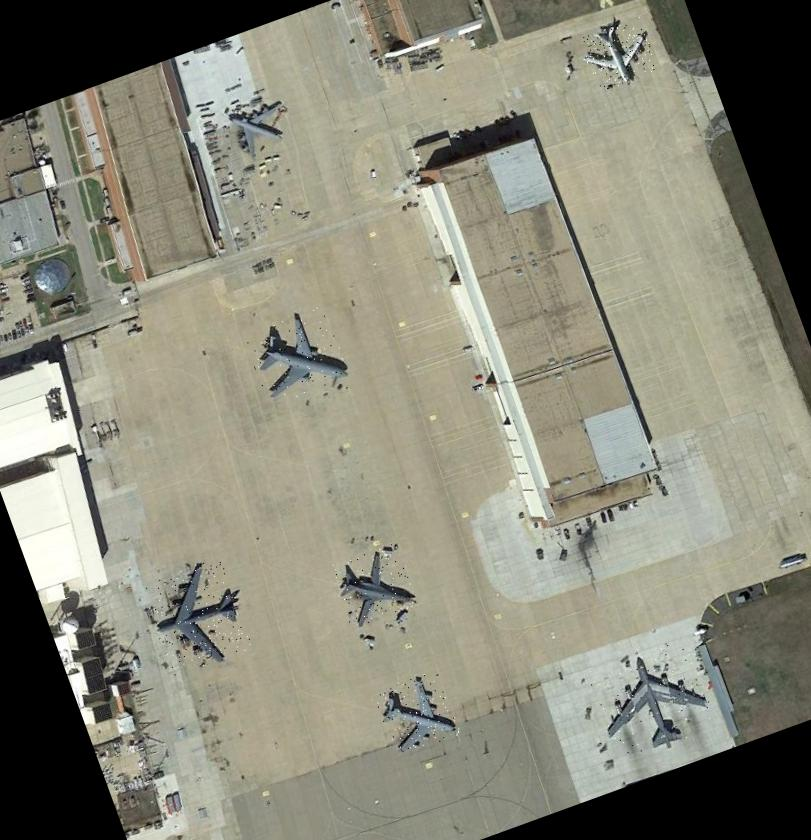A10: (328, 541, 420, 630)
A11: (578, 17, 659, 94)
A14: (371, 668, 461, 758)
A18: (240, 304, 352, 408)
A8: (586, 637, 718, 762), (138, 556, 254, 679)
